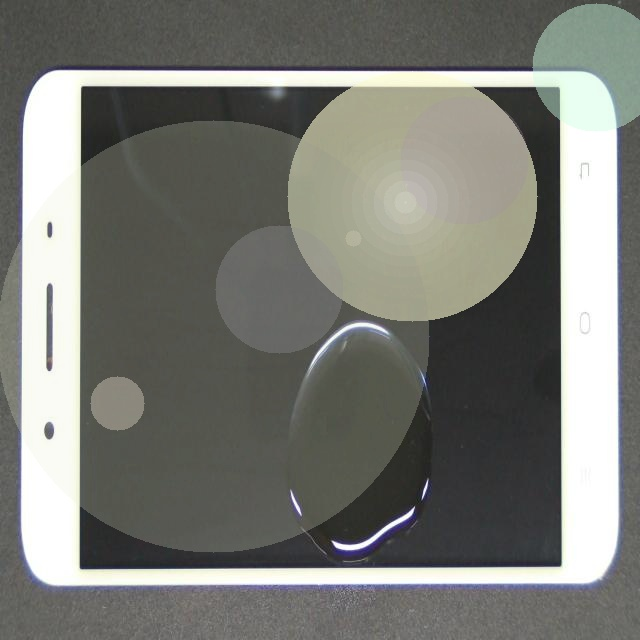oil: (221, 294, 637, 640)
